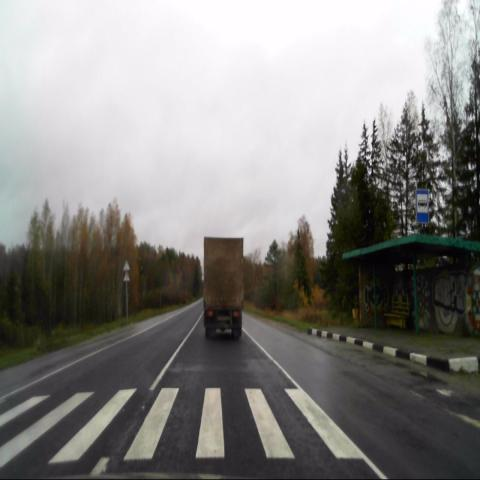5_16: (415, 188, 429, 227)
